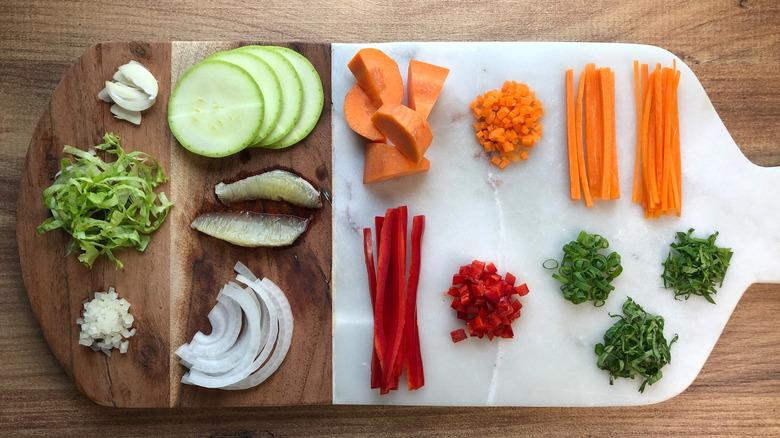beetroot: (348, 201, 438, 403)
carrot: (343, 49, 551, 197), (563, 52, 705, 214)
spring onion: (548, 235, 629, 318)
